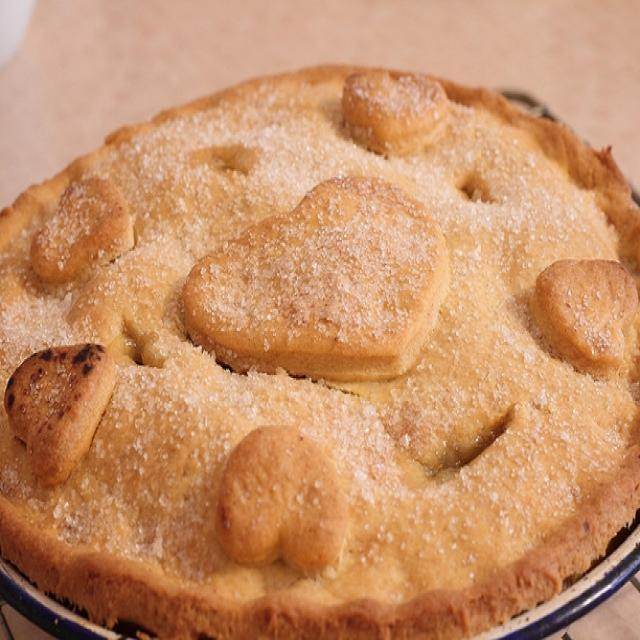Apple: (15, 66, 637, 628)
